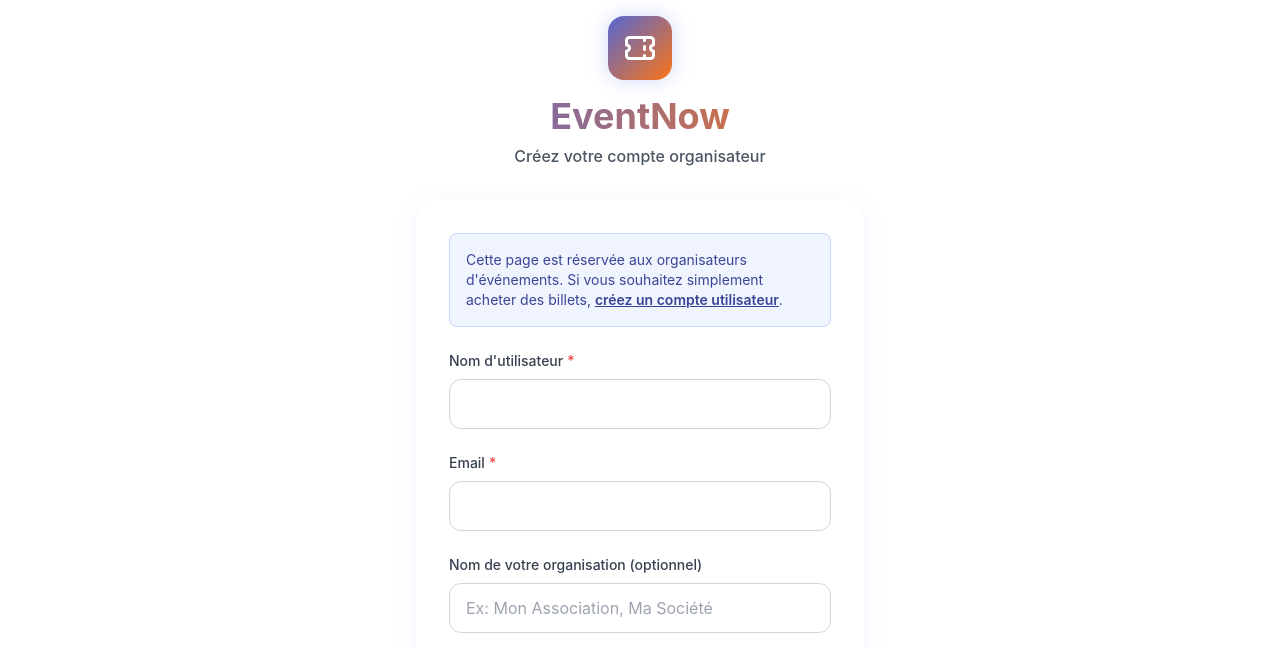
RegisterOrganizerPage - client-side validation › rejects mismatched passwords
In the field labelled "Nom d'utilisateur*": (640, 404) [449,379,831,429], type "alice"
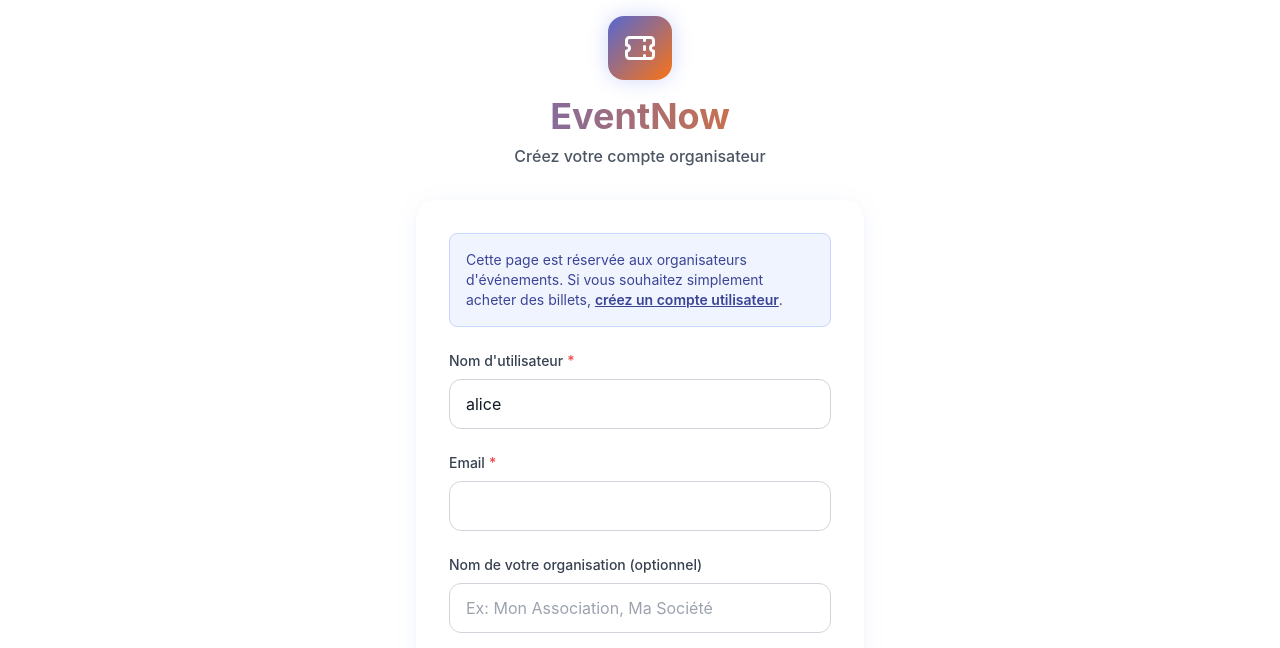
In the field labelled "Email*": (640, 506) [449,481,831,531], type "alice@example.com"
(page scrolled)
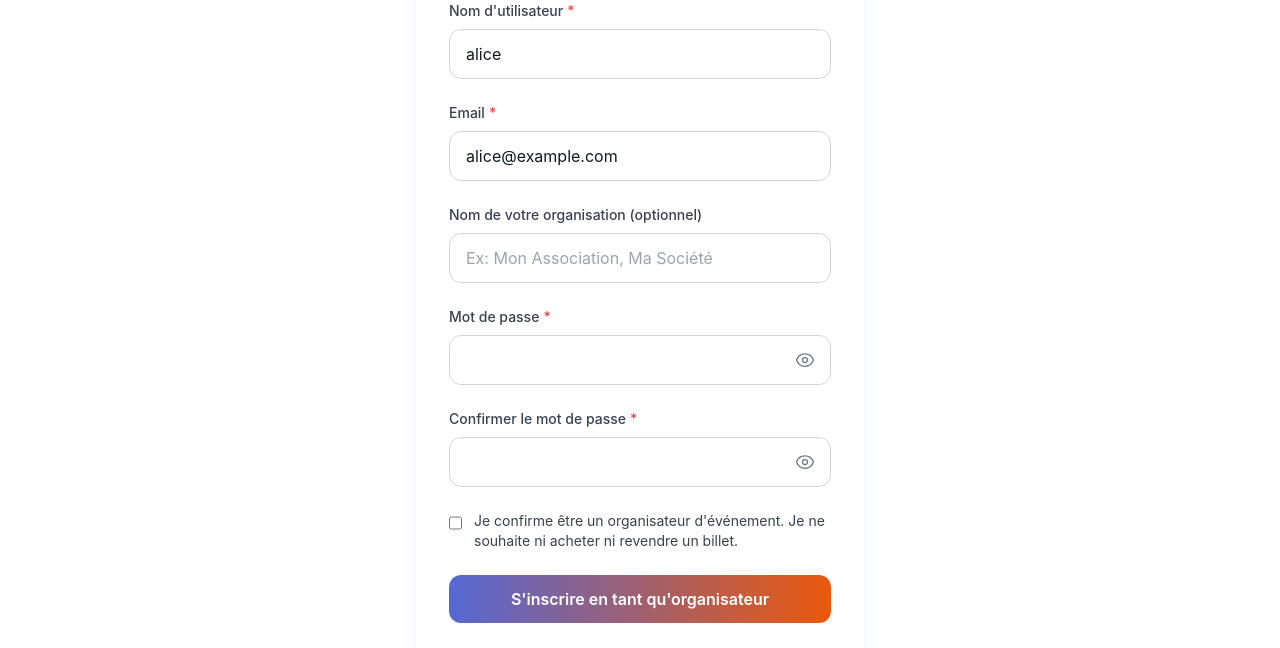
In the password field labelled "Mot de passe*": (640, 360) [449,335,831,385], type "password123"
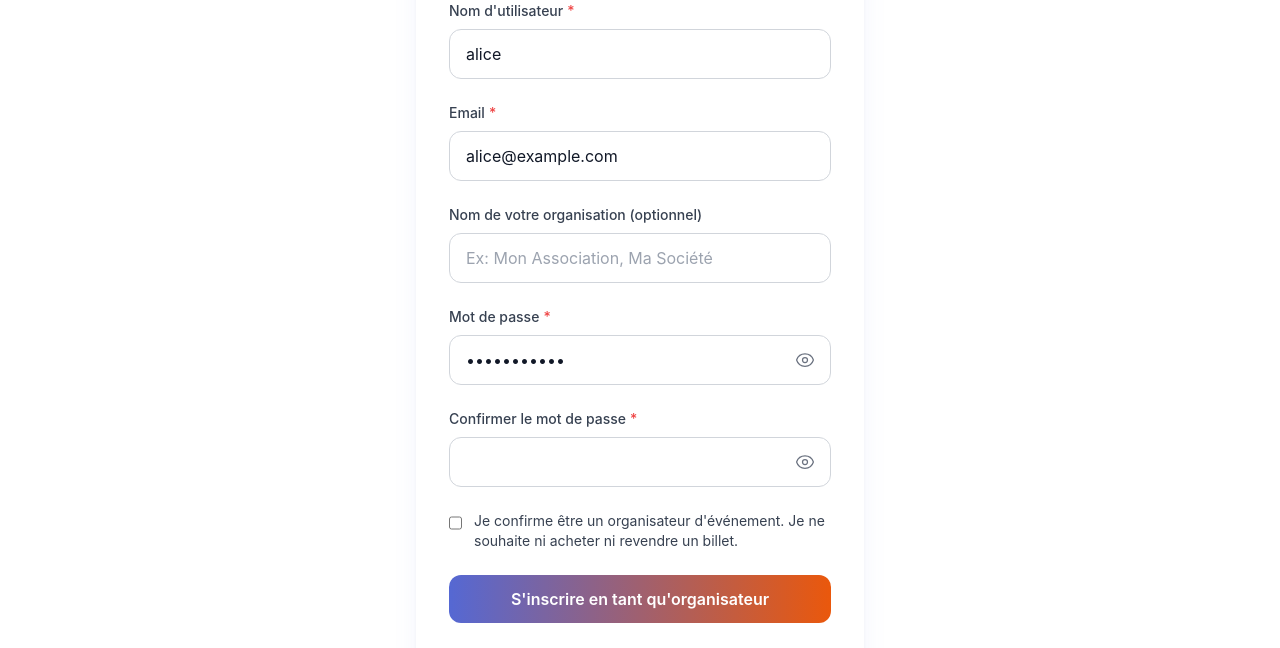
In the password field labelled "Confirmer le mot de passe*": (640, 462) [449,437,831,487], type "other12345"
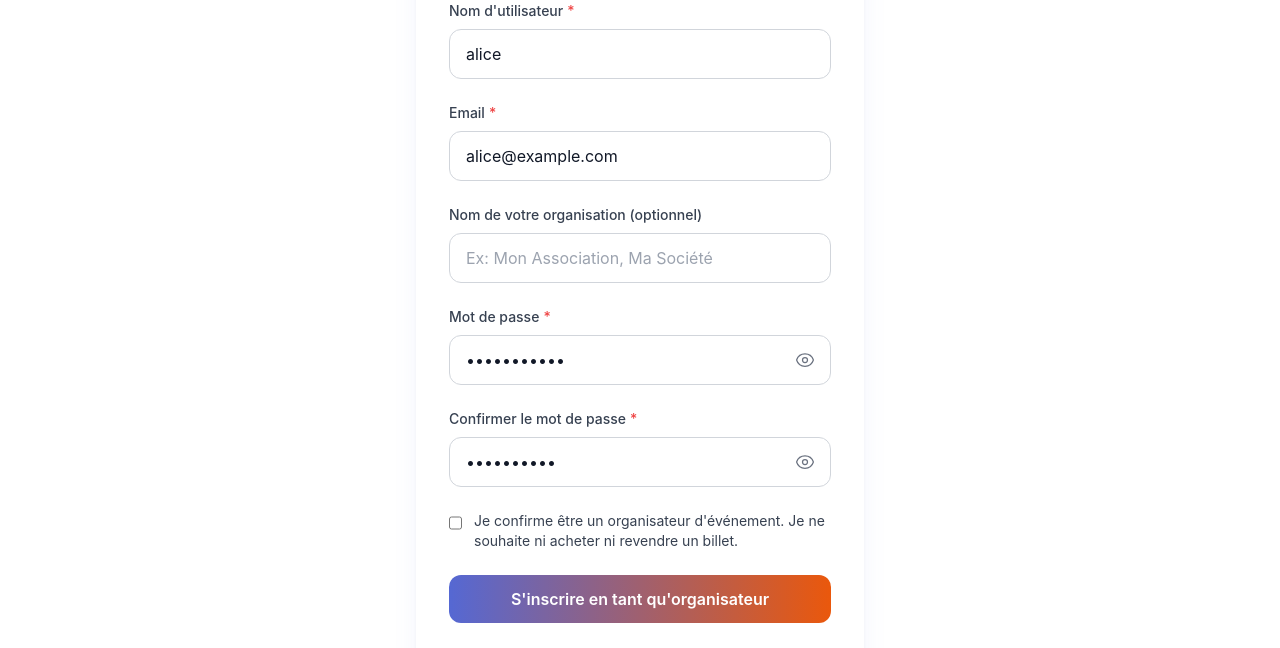
Click the checkbox labelled "Je confirme être un organisateur": (456, 523) [449,515,462,531]
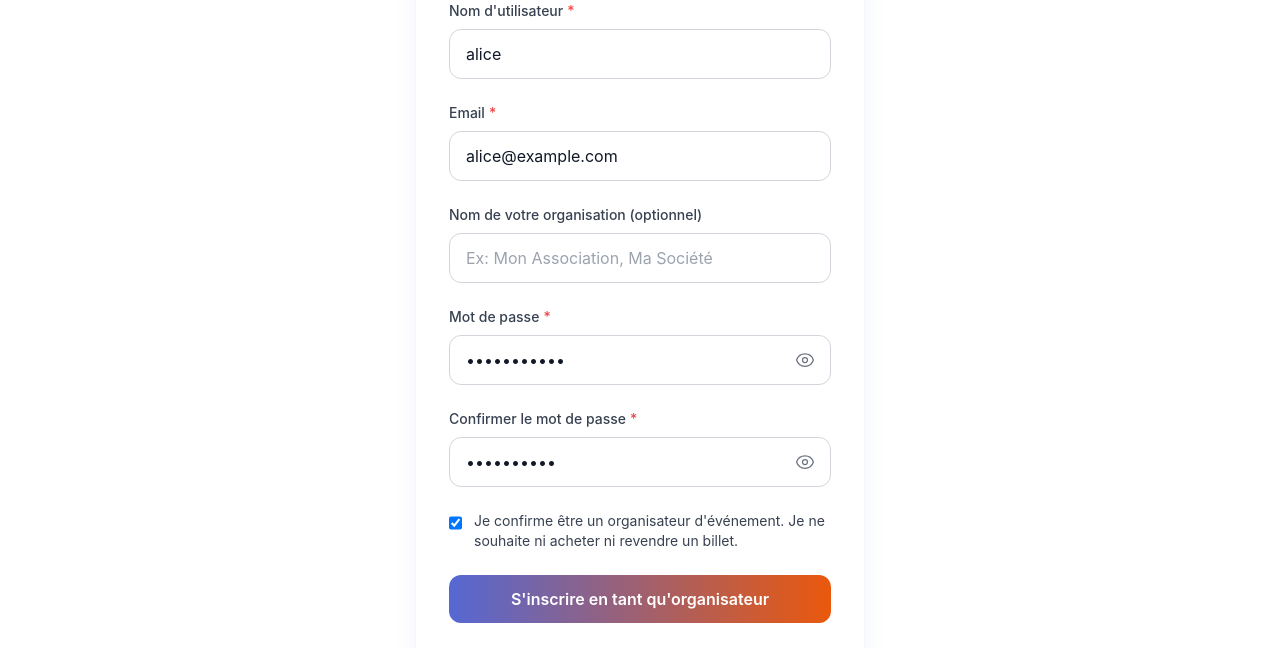
Click the button "S'inscrire en tant qu'organisateur": (640, 599) [449,575,831,623]
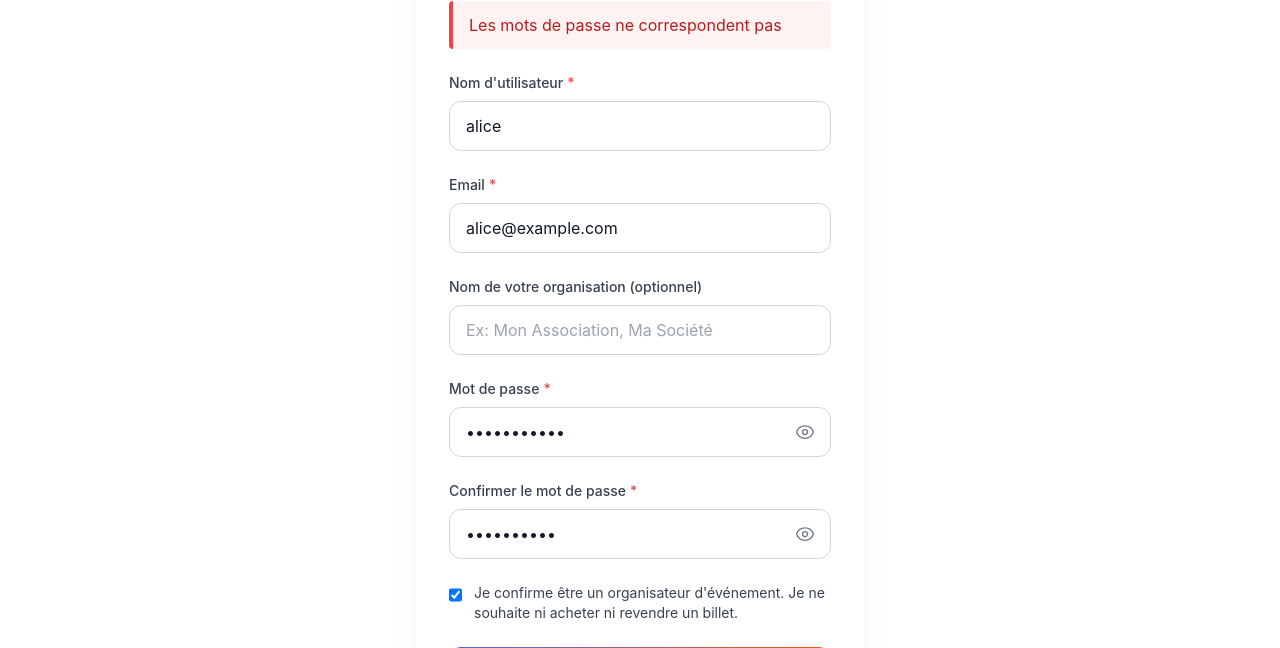
Expected: the text "Les mots de passe ne correspondent pas" is shown, [469,13,782,37]
